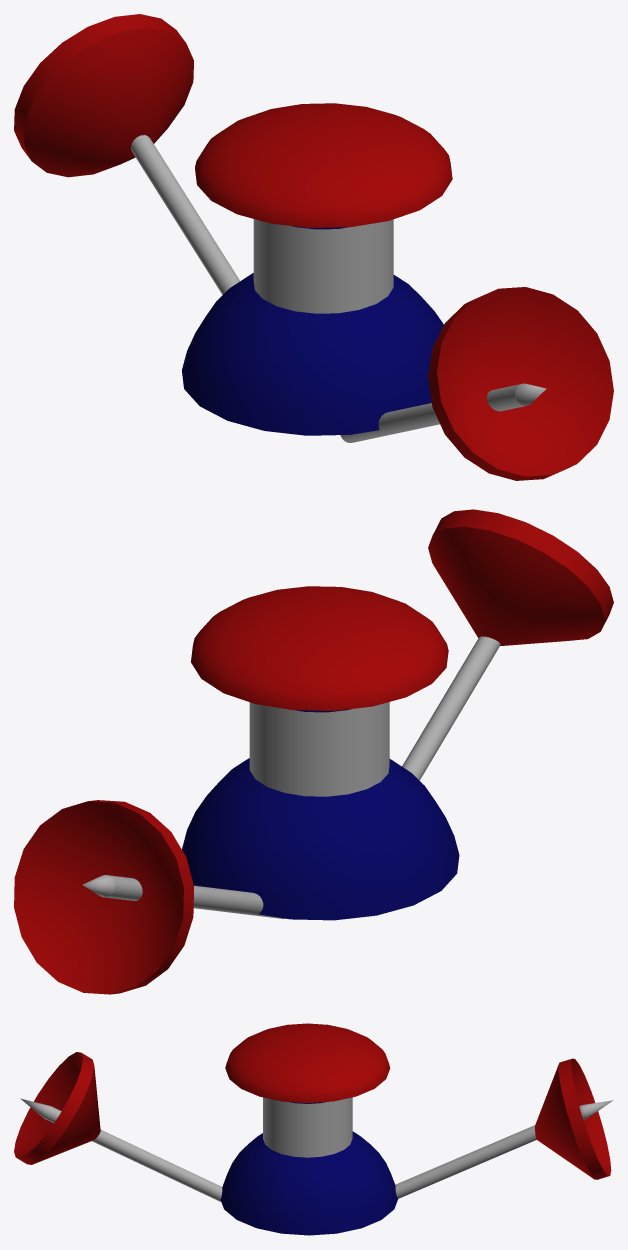
File: S3_Top_Antennas.fbx
3 renders of one model, top to bottom at view 1: azimuth 30°, elevation 25°; view 2: azimuth 150°, elevation 25°; view 3: azimuth 270°, elevation 25°, orthographic. The views are drawn at different scales.
Visible parts, largest first — view 1: pCylinder6; view 2: pCylinder6; view 3: pCylinder6.
Boxes of the visible parts, <box> form: pCylinder6: <box>14,14,613,480</box>; pCylinder6: <box>14,509,613,994</box>; pCylinder6: <box>14,1023,613,1235</box>.
Bounding box in the file's own units: 13.52 × 15.37 × 45.32.
